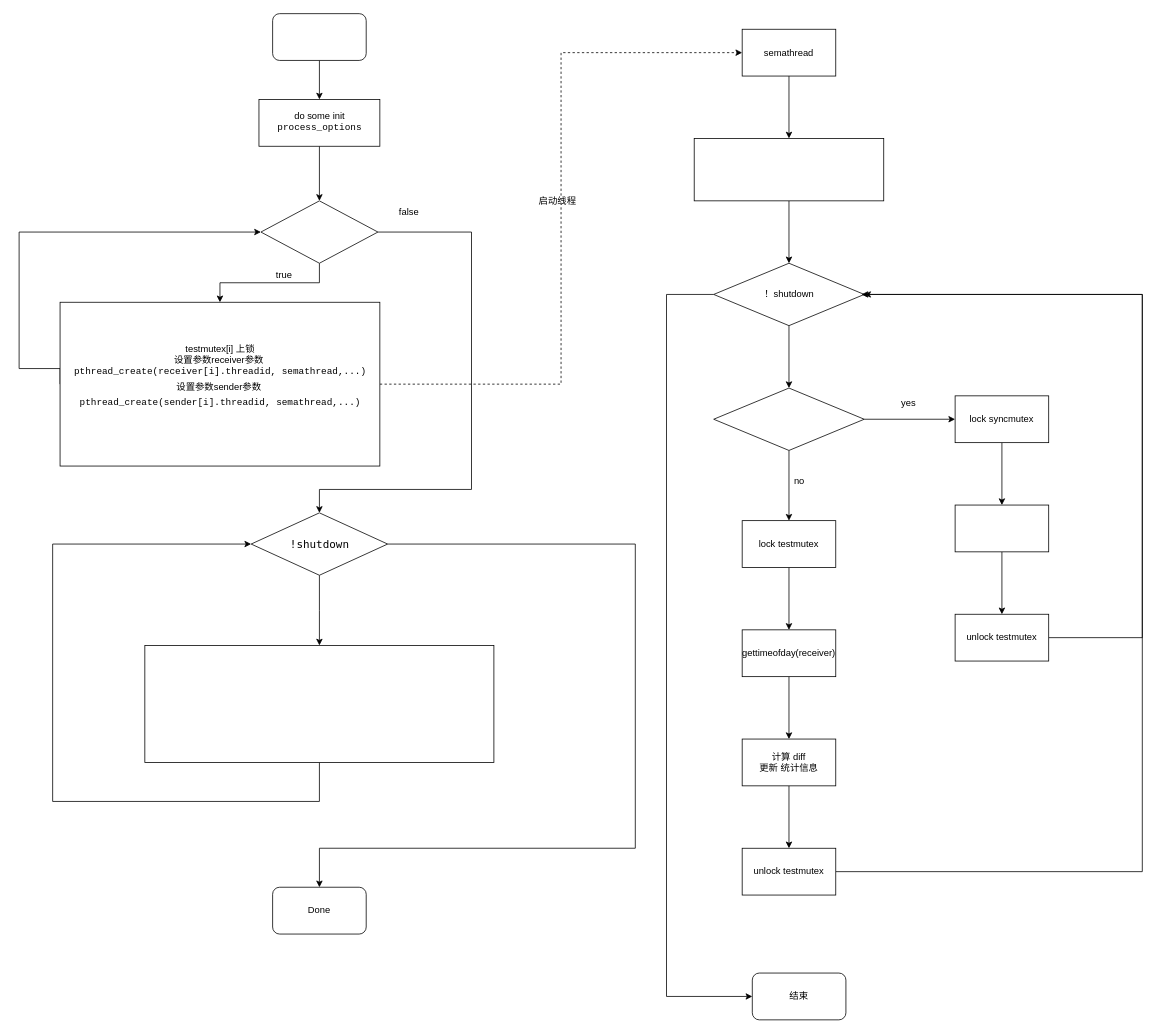
The diagram is 1162 pixels wide and 1034 high, and some of its shapes have lost their labels. The centre of each missing label's shape, as x and y in pixels:
for (i = 0; i < num_threads; i++) { // 打印 统计信息 }: pixel 319 703
gettimeofday(unlock): pixel 1001 528
i < num_thread: pixel 319 231
main: pixel 319 36
sender?: pixel 788 418
参数设置: pixel 788 169
